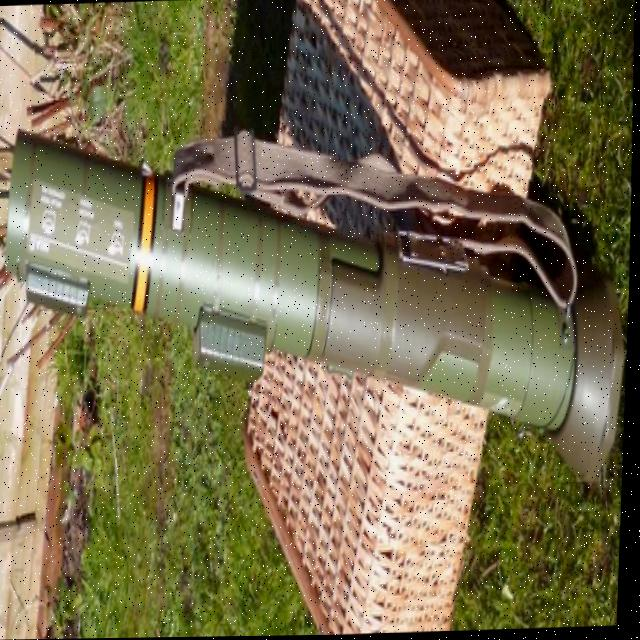rocket: (0, 45, 638, 603)
